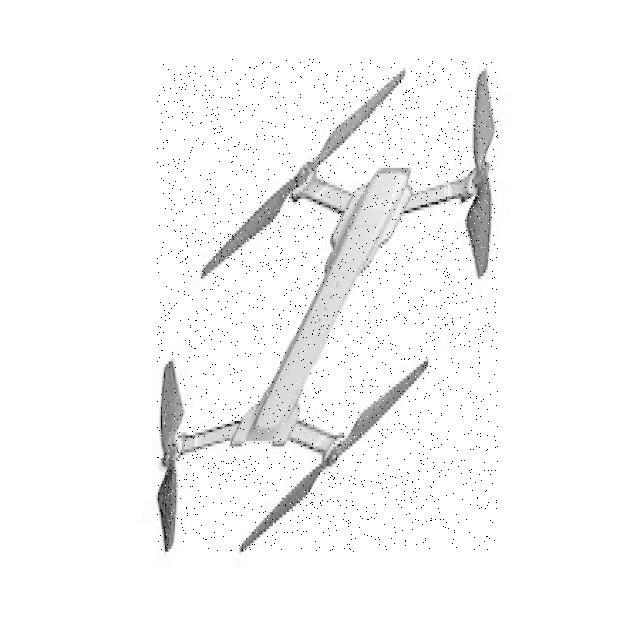drone: (158, 60, 499, 553)
